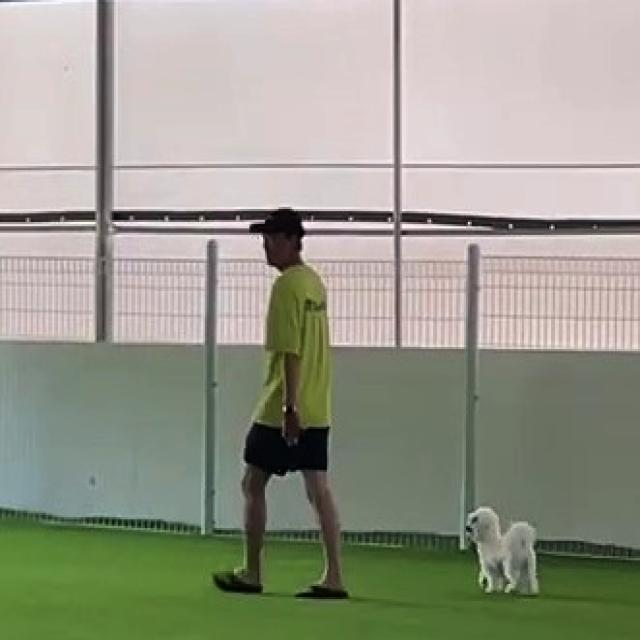Unleashed_Dog: (318, 506, 540, 594)
